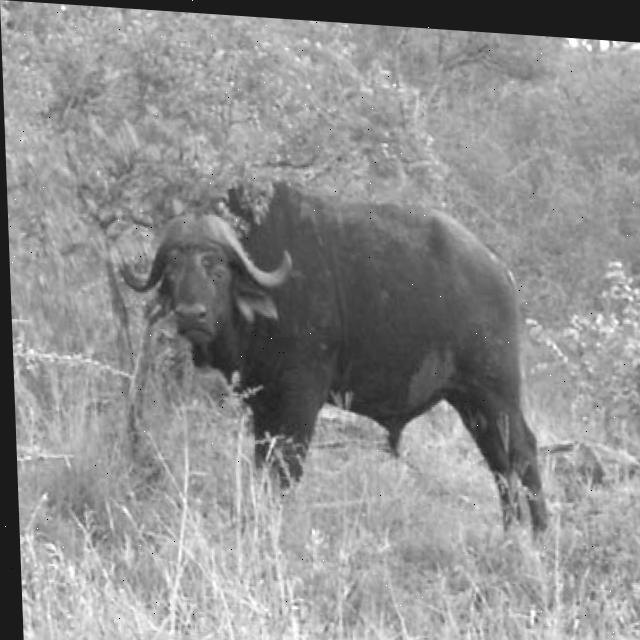Buffalo: (114, 167, 555, 556)
